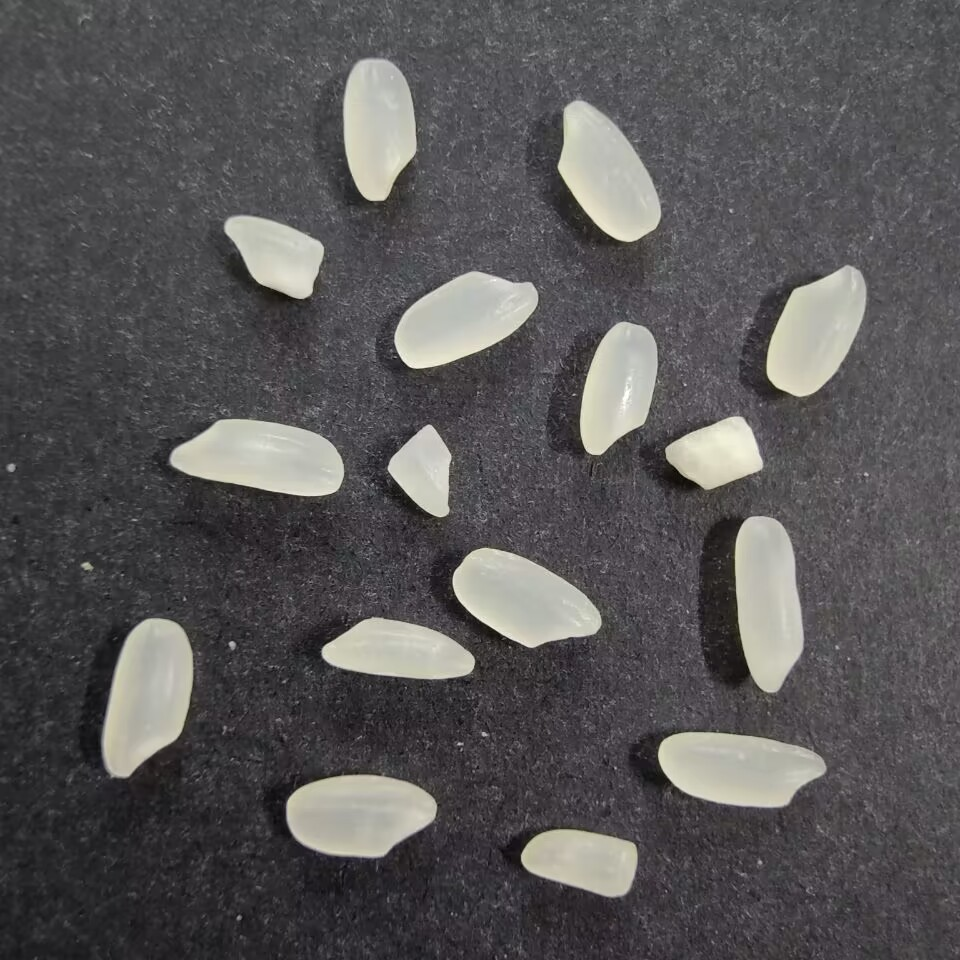broken: (220, 213, 326, 305), (516, 826, 638, 903), (658, 411, 766, 494), (386, 422, 454, 524)
rice: (451, 546, 606, 652), (555, 98, 664, 244), (101, 613, 193, 783), (651, 728, 832, 814), (390, 267, 541, 370), (165, 414, 346, 499), (762, 260, 869, 398), (730, 513, 808, 698), (281, 772, 437, 860), (341, 53, 421, 204), (578, 316, 663, 457), (316, 616, 479, 683)
